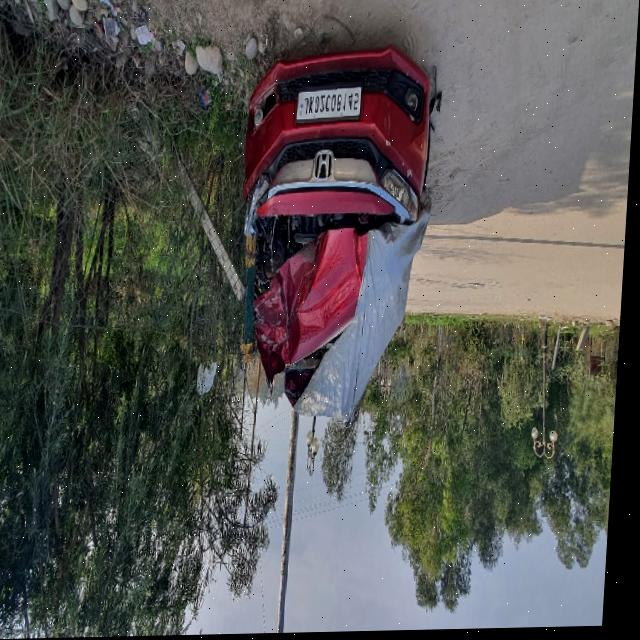plate: (294, 80, 368, 130)
